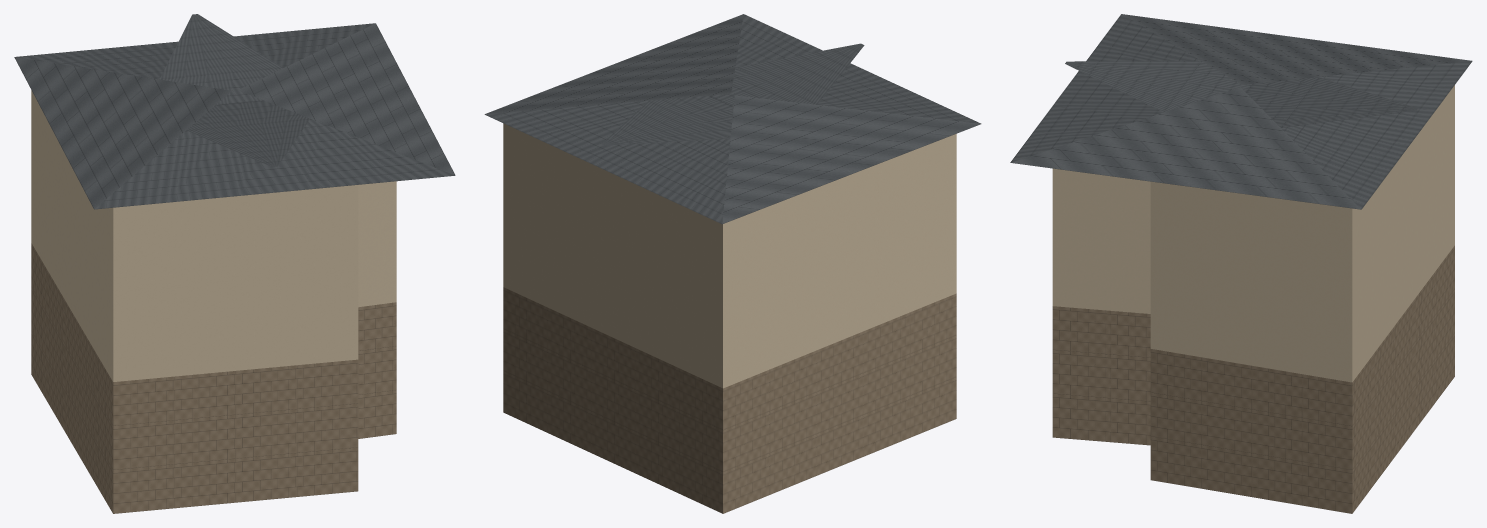
Rendered from bld_c32_-37_453.gltf.
The picture shows the model from 3 angles, left to right: view 1: azimuth 30°, elevation 25°; view 2: azimuth 150°, elevation 25°; view 3: azimuth 270°, elevation 25°; orthographic projection. The views are drawn at different scales.
Visible parts, largest first — view 1: bld_c32_-37_453; view 2: bld_c32_-37_453; view 3: bld_c32_-37_453.
Part boxes in pixels (bbox=[...]): bld_c32_-37_453: bbox=[14, 14, 455, 513]; bld_c32_-37_453: bbox=[484, 14, 981, 513]; bld_c32_-37_453: bbox=[1010, 14, 1472, 513].
Bounding box in the file's own units: 16.29 × 13.1 × 16.27.
Materials: 3 (3 with a texture image).
